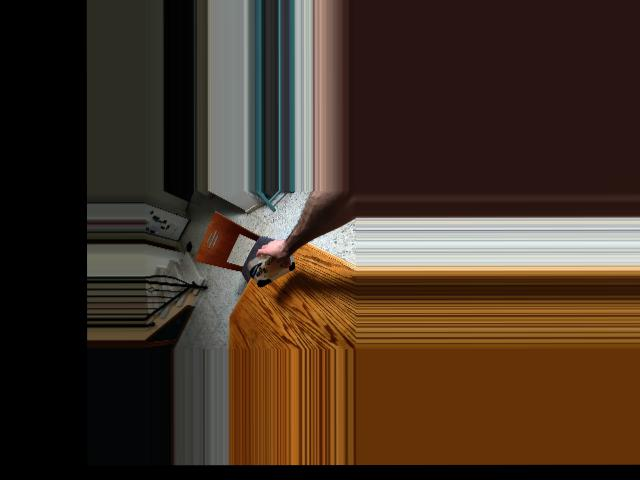cheese: (247, 240, 298, 287)
